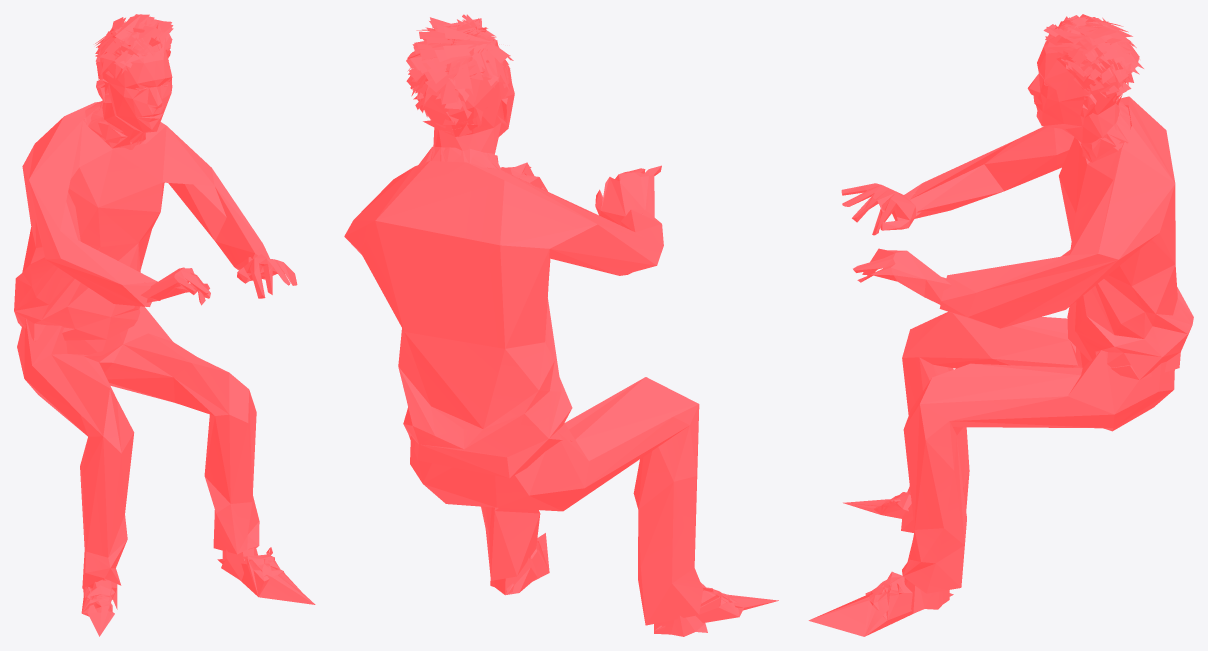
Rendered from ross_assis_tape.glb.
The picture shows the model from 3 angles, left to right: view 1: azimuth 30°, elevation 25°; view 2: azimuth 150°, elevation 25°; view 3: azimuth 270°, elevation 25°; orthographic projection. The views are drawn at different scales.
Parts seen in each view (by area): view 1: Ch31_Sweater, Ch31_Pants, Ch31_Body, Ch31_Shoes, Ch31_Hair, Ch31_Collar; view 2: Ch31_Sweater, Ch31_Pants, Ch31_Body, Ch31_Hair, Ch31_Shoes, Ch31_Collar; view 3: Ch31_Sweater, Ch31_Pants, Ch31_Body, Ch31_Hair, Ch31_Shoes, Ch31_Collar.
Part boxes in pixels (x1,y1,x2,y2): Ch31_Sweater: [14, 101, 269, 341]; Ch31_Pants: [17, 306, 259, 588]; Ch31_Body: [87, 31, 297, 609]; Ch31_Shoes: [81, 547, 315, 636]; Ch31_Hair: [95, 14, 173, 80]; Ch31_Collar: [84, 100, 145, 149]; Ch31_Sweater: [344, 161, 663, 478]; Ch31_Pants: [410, 377, 703, 625]; Ch31_Body: [418, 33, 707, 636]; Ch31_Hair: [406, 14, 513, 137]; Ch31_Shoes: [506, 533, 778, 631]; Ch31_Collar: [416, 146, 500, 169]; Ch31_Sweater: [904, 96, 1193, 380]; Ch31_Pants: [902, 311, 1174, 593]; Ch31_Body: [841, 23, 1129, 613]; Ch31_Hair: [1043, 14, 1143, 106]; Ch31_Shoes: [808, 486, 953, 636]; Ch31_Collar: [1078, 101, 1131, 162].
Size of the model in its own units: 0.6125 by 1.34 by 0.803.
